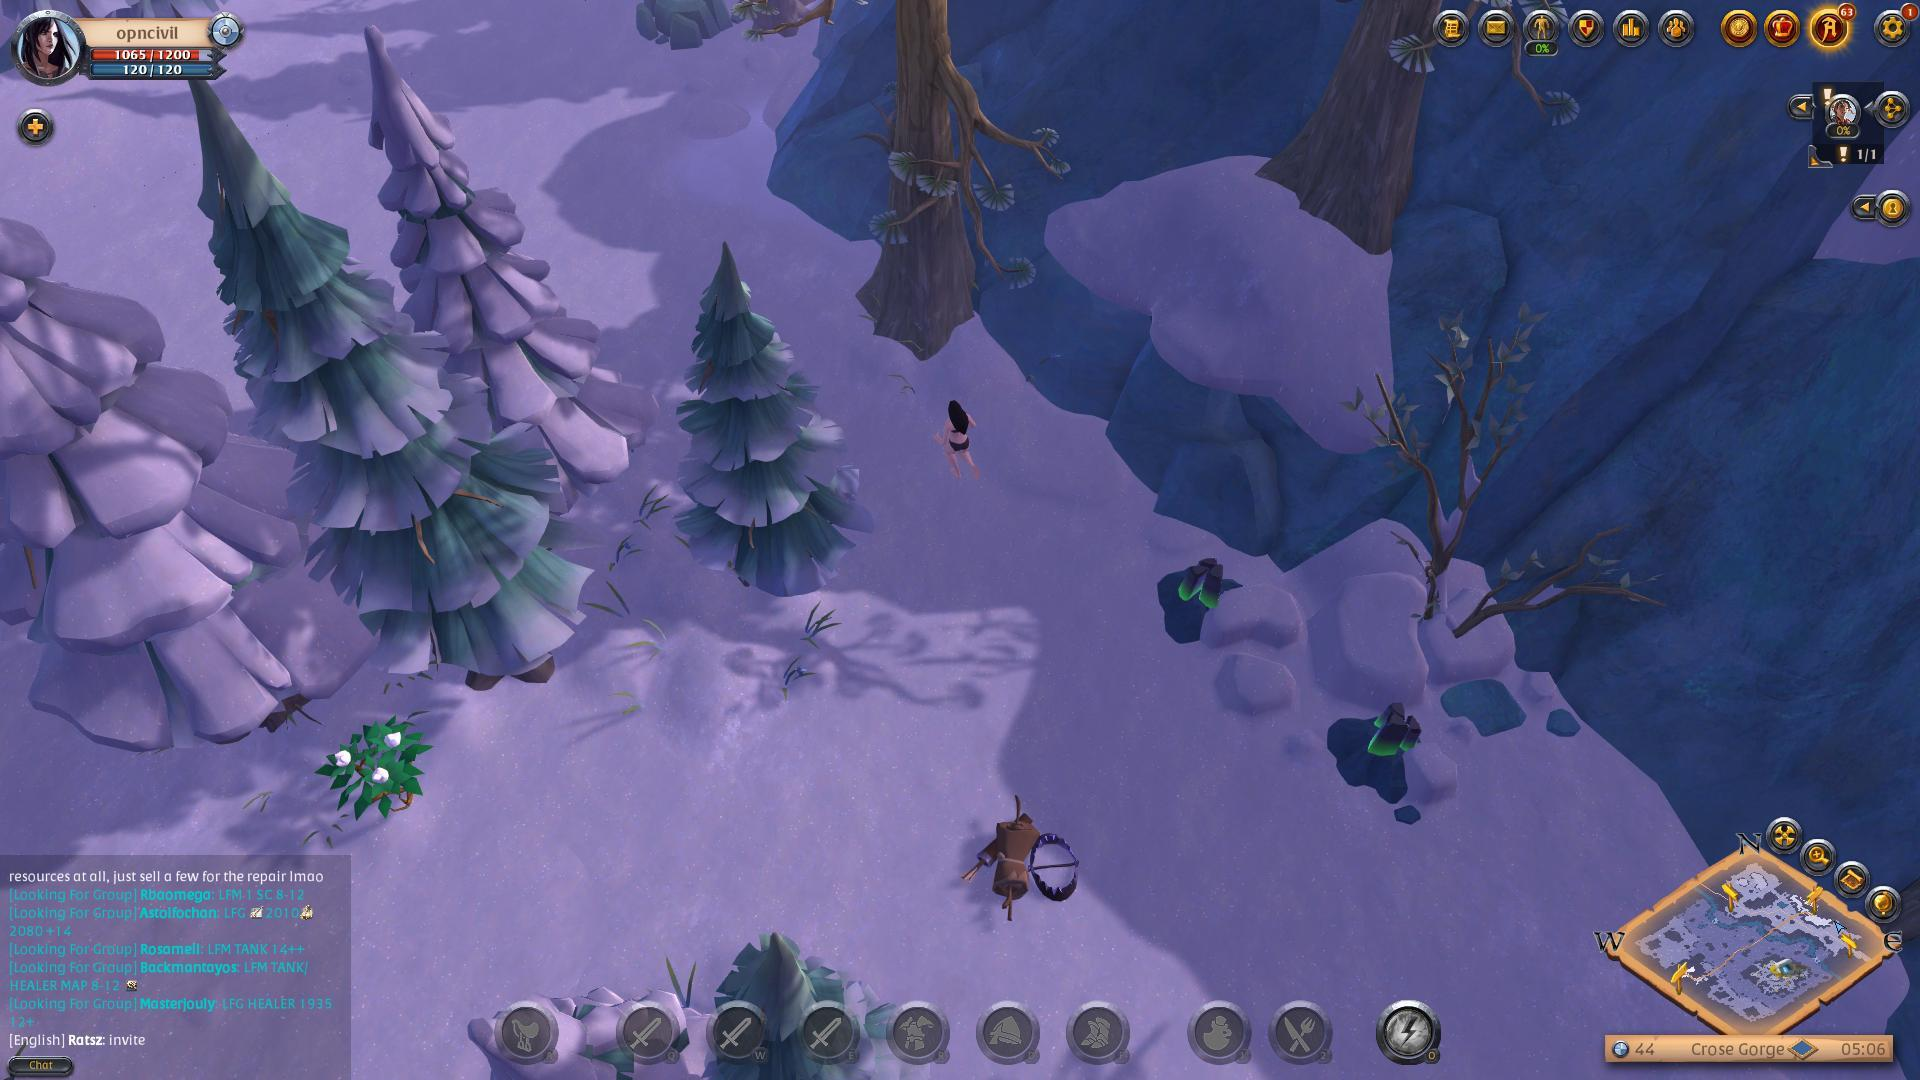flax: (316, 715, 436, 828)
tin_ore: (1328, 691, 1436, 808), (1147, 551, 1245, 654)
